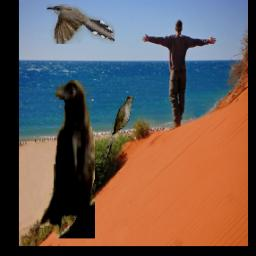Crow: (39, 80, 96, 238)
Cuckoo: (47, 5, 115, 45), (105, 96, 134, 159)
